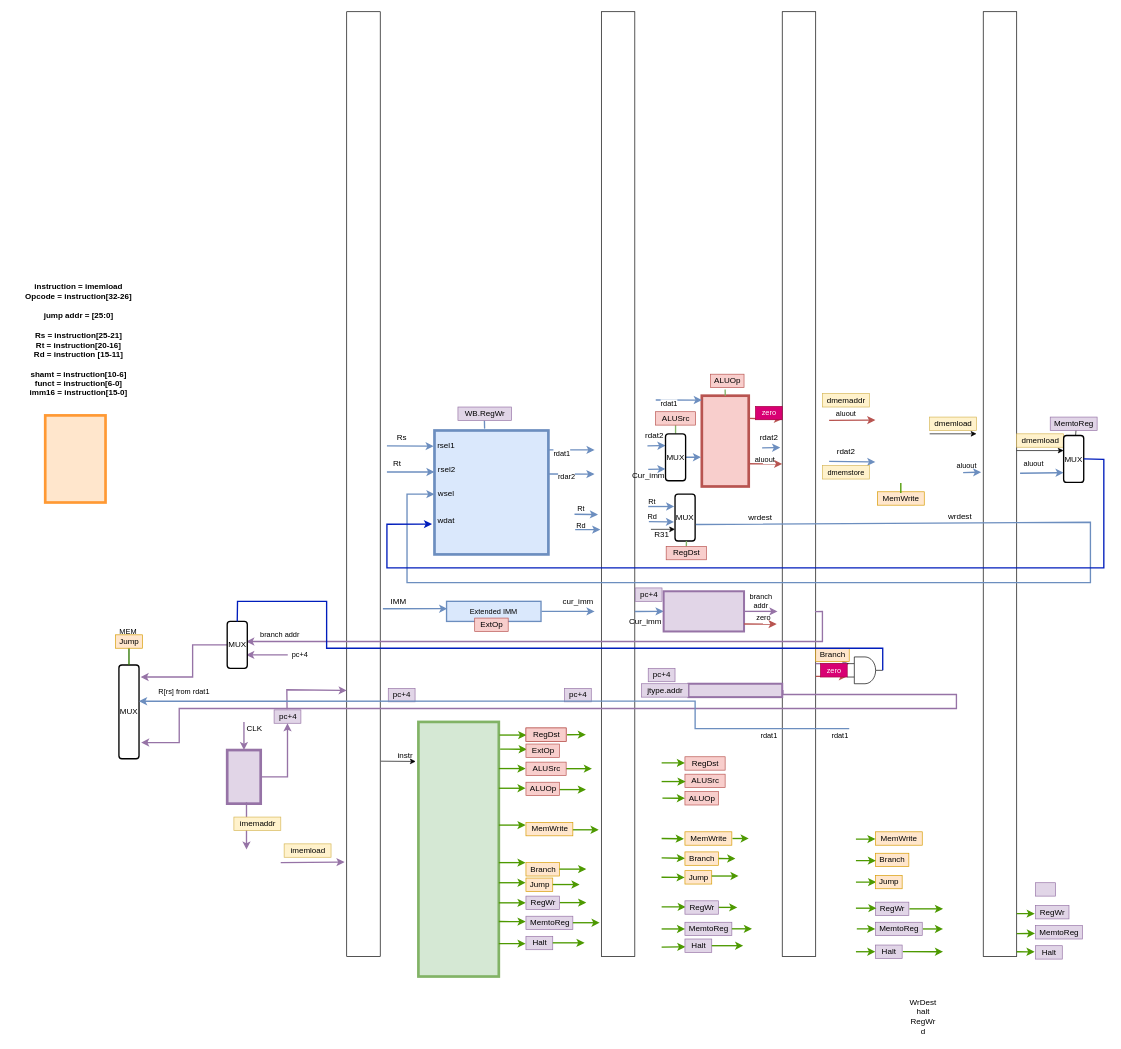
Some shapes in this 1121 by 1049 pixel diagram are drawn without their labels. The box of each missing label's shape, as (x1, y1, x2, y2) in pixels:
ALU: (700, 394, 750, 487)
Control Unit: (417, 720, 500, 978)
EX/MEM: (782, 11, 816, 956)
ID/EX: (601, 11, 635, 956)
IF/ID: (346, 11, 380, 956)
jal: (1035, 882, 1056, 896)
MEM/Wb: (983, 11, 1017, 956)
PC: (226, 748, 262, 805)
pc+4+ {imm_ext[29:0],2'b0}: (662, 590, 745, 632)
Register File: (433, 429, 549, 555)
Request Unit: (44, 414, 107, 504)
{pc+4[31:28], addr,00 }: (687, 682, 783, 698)
